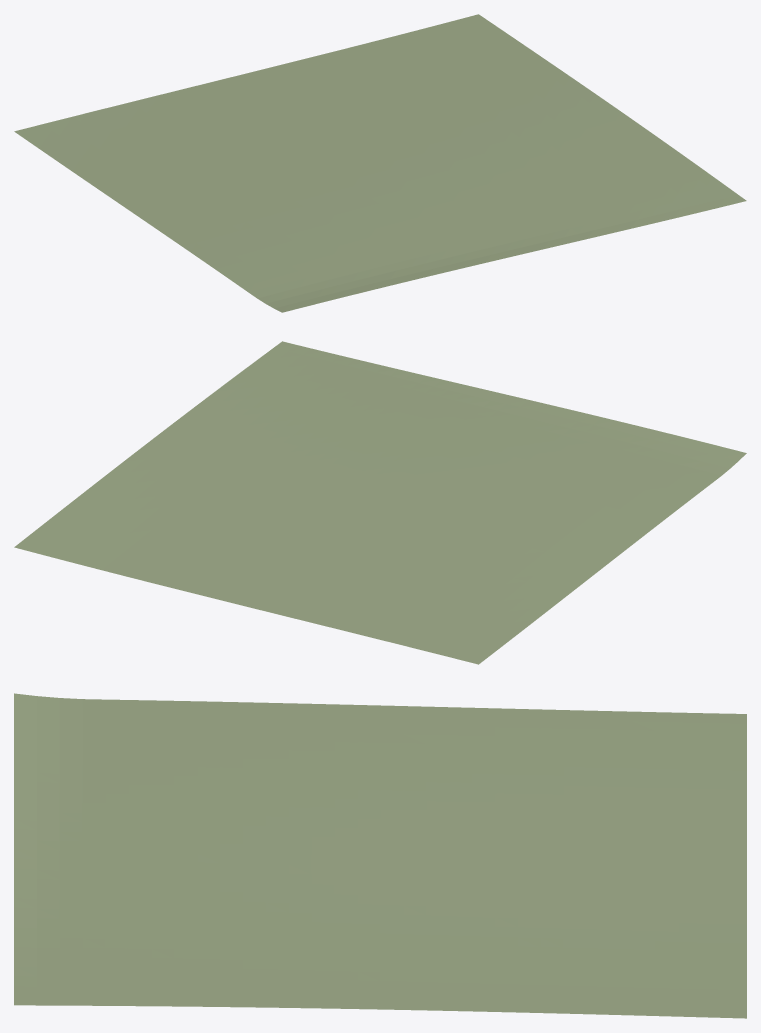
File: expanse-19-0.glb
The picture shows the model from 3 angles, top to bottom: view 1: azimuth 30°, elevation 25°; view 2: azimuth 150°, elevation 25°; view 3: azimuth 270°, elevation 25°; orthographic projection. The views are drawn at different scales.
Visible parts, largest first — view 1: expanse-19-0; view 2: expanse-19-0; view 3: expanse-19-0.
Boxes of the visible parts, x1,y1,x2,y2 form: expanse-19-0: (14, 14, 746, 312); expanse-19-0: (14, 341, 746, 664); expanse-19-0: (14, 693, 746, 1018).
Size of the model in its own units: 256 by 8.27 by 256.
